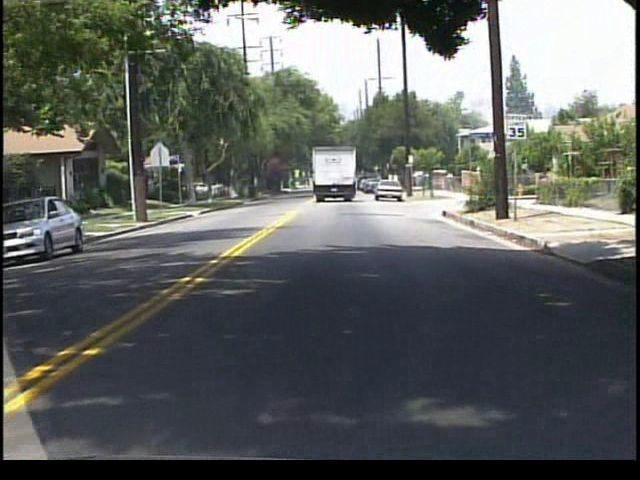person: (444, 169, 456, 192)
